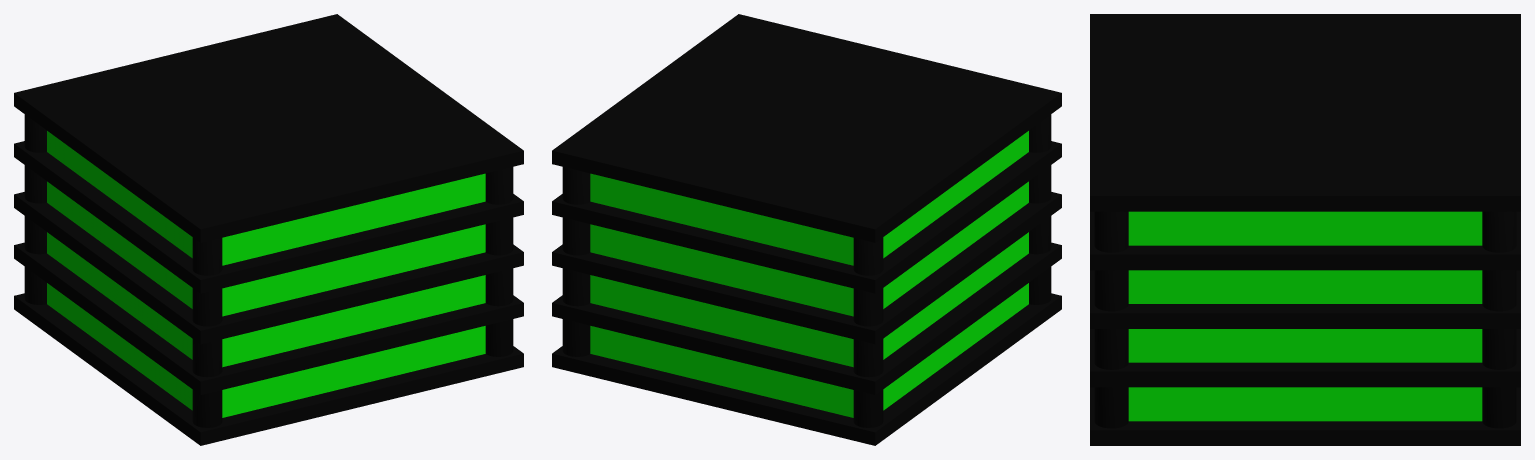
Rendered from GreenCollectable.glb.
3 renders of one model, left to right at view 1: azimuth 30°, elevation 25°; view 2: azimuth 150°, elevation 25°; view 3: azimuth 270°, elevation 25°, orthographic. The views are drawn at different scales.
Visible parts, largest first — view 1: Cube.002, Cube.003, Cube.001, Cube.004, Cube, Cube.005, Cylinder.002, Cylinder.001, Cylinder.003; view 2: Cube.002, Cube.003, Cube.001, Cube.004, Cube, Cube.005, Cylinder.003, Cylinder, Cylinder.002; view 3: Cube.002, Cube.003, Cube.001, Cube.005, Cube, Cube.004, Cylinder, Cylinder.001.
Part boxes in pixels (bbox=[...]): Cube.002: bbox=[14, 14, 523, 242]; Cube.003: bbox=[47, 131, 485, 417]; Cube.001: bbox=[14, 141, 523, 293]; Cube.004: bbox=[14, 293, 523, 445]; Cube: bbox=[14, 192, 523, 344]; Cube.005: bbox=[14, 242, 523, 394]; Cylinder.002: bbox=[192, 237, 222, 427]; Cylinder.001: bbox=[485, 167, 513, 356]; Cylinder.003: bbox=[24, 114, 46, 304]; Cube.002: bbox=[552, 14, 1061, 242]; Cube.003: bbox=[590, 131, 1028, 417]; Cube.001: bbox=[552, 141, 1061, 293]; Cube.004: bbox=[552, 293, 1061, 445]; Cube: bbox=[552, 192, 1061, 344]; Cube.005: bbox=[552, 242, 1061, 394]; Cylinder.003: bbox=[853, 237, 883, 427]; Cylinder: bbox=[562, 167, 590, 356]; Cylinder.002: bbox=[1029, 114, 1051, 304]; Cube.002: bbox=[1090, 14, 1520, 211]; Cube.003: bbox=[1128, 211, 1482, 421]; Cube.001: bbox=[1090, 211, 1520, 270]; Cube.005: bbox=[1090, 329, 1520, 387]; Cube: bbox=[1090, 270, 1520, 328]; Cube.004: bbox=[1090, 387, 1520, 445]; Cylinder: bbox=[1482, 211, 1516, 428]; Cylinder.001: bbox=[1094, 211, 1128, 428].
Bounding box in the file's own units: 2 × 1.28 × 2.
